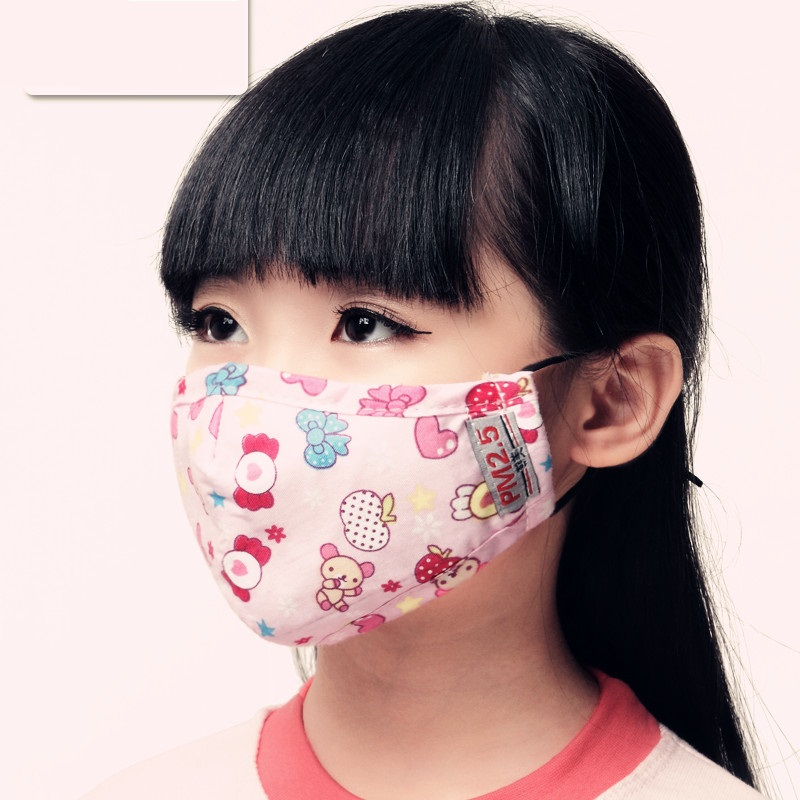face_mask: (170, 284, 554, 646)
